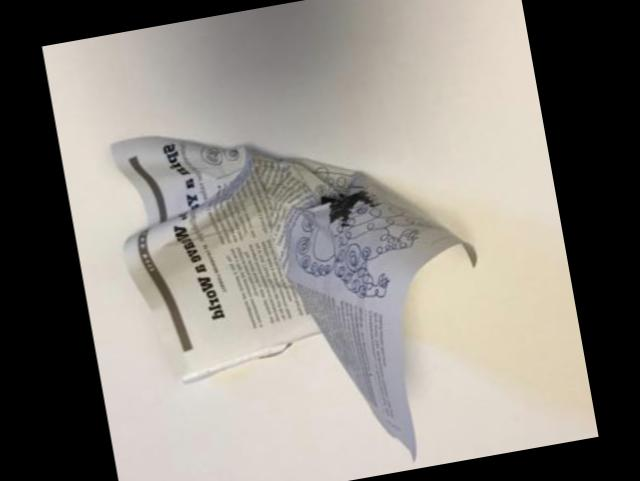cardboard paper: (115, 136, 477, 456)
